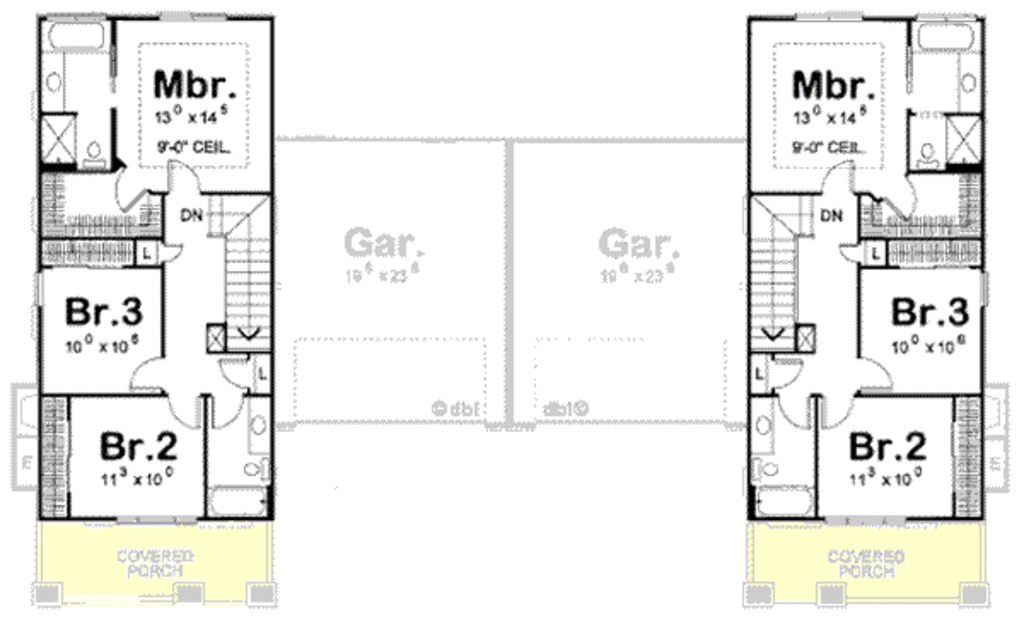door: (874, 170, 922, 222), (155, 154, 204, 199), (201, 390, 244, 434), (766, 352, 809, 395), (164, 389, 206, 433), (114, 165, 153, 212), (216, 352, 259, 393), (815, 154, 859, 192), (857, 355, 899, 393), (125, 354, 164, 393), (814, 397, 855, 434), (778, 394, 812, 429), (835, 238, 864, 266)
large_sink: (908, 138, 941, 171), (76, 138, 109, 168), (747, 453, 782, 479), (238, 455, 270, 483)
small_sink: (246, 395, 276, 455), (749, 398, 778, 455), (958, 47, 983, 112), (42, 51, 66, 114)
stairs: (743, 180, 818, 351), (198, 195, 271, 349)
tub: (749, 482, 818, 521), (38, 18, 114, 48), (911, 22, 986, 52), (209, 486, 277, 519)
window: (156, 8, 230, 28), (794, 11, 869, 25)
